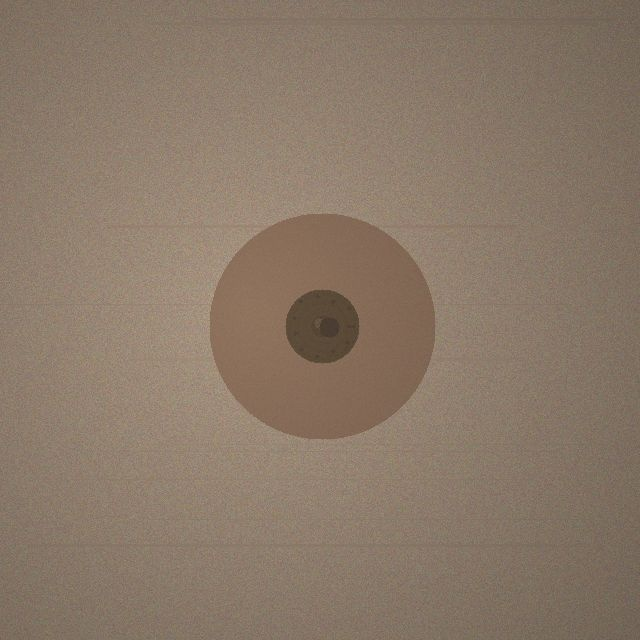cold_weld: (209, 213, 435, 439)
